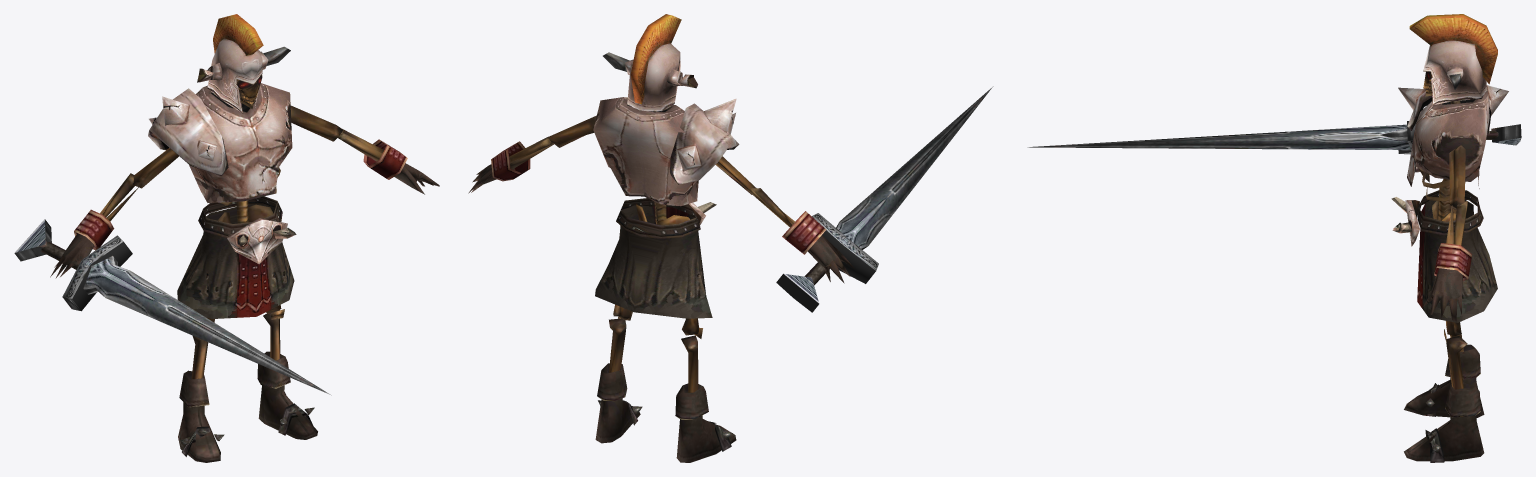
The model's file is monster__skeleton__warrior__vari03_kings_raid.glb.
The picture shows the model from 3 angles, left to right: view 1: azimuth 30°, elevation 25°; view 2: azimuth 150°, elevation 25°; view 3: azimuth 270°, elevation 25°; orthographic projection.
Visible parts, largest first — view 1: Monster_Skeleton_Sword_Vari03_1, Monster_Skeleton_Sword_Vari03_0; view 2: Monster_Skeleton_Sword_Vari03_1, Monster_Skeleton_Sword_Vari03_0; view 3: Monster_Skeleton_Sword_Vari03_1, Monster_Skeleton_Sword_Vari03_0.
Boxes of the visible parts, <box> form: Monster_Skeleton_Sword_Vari03_1: <box>14,38,331,456</box>; Monster_Skeleton_Sword_Vari03_0: <box>41,14,439,462</box>; Monster_Skeleton_Sword_Vari03_1: <box>593,43,993,451</box>; Monster_Skeleton_Sword_Vari03_0: <box>468,14,854,462</box>; Monster_Skeleton_Sword_Vari03_1: <box>1027,40,1521,462</box>; Monster_Skeleton_Sword_Vari03_0: <box>1391,14,1508,417</box>.
Size of the model in its own units: 1.86 by 1.92 by 2.07.
1 material, 1 textured.
